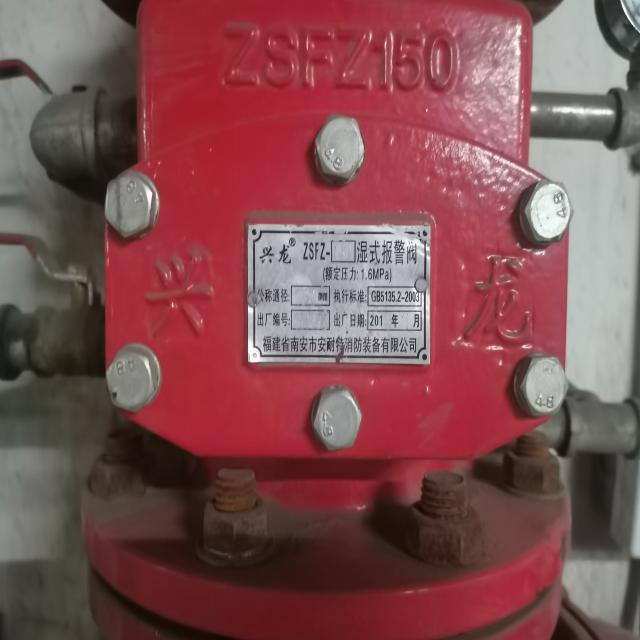bolt head: (102, 167, 157, 240), (313, 111, 366, 184), (520, 178, 575, 245), (311, 384, 364, 453), (515, 352, 569, 419), (104, 346, 157, 414)
bolt side: (399, 495, 489, 569), (197, 489, 270, 557), (86, 442, 154, 502), (500, 445, 565, 496)
